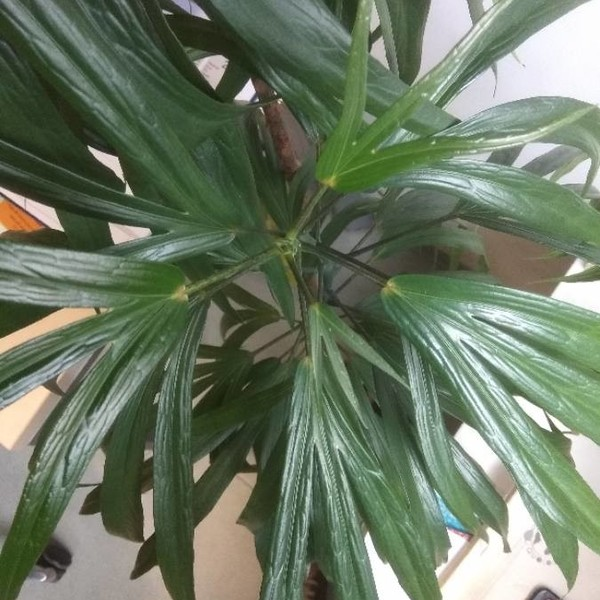obstacle: (7, 9, 575, 579)
